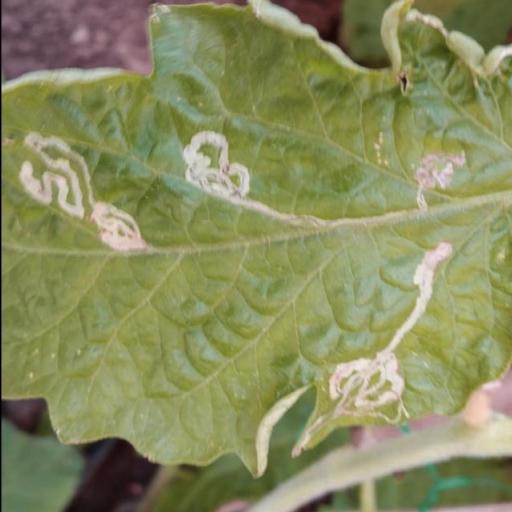disease_tomato: (0, 0, 512, 485)
